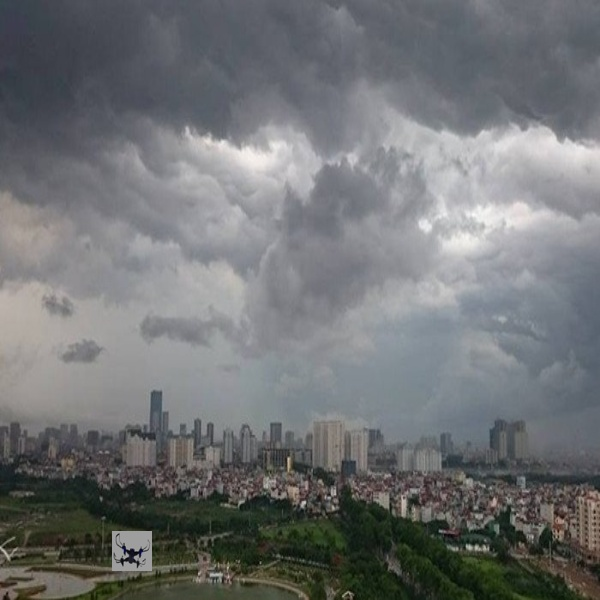drone: (110, 530, 153, 570)
